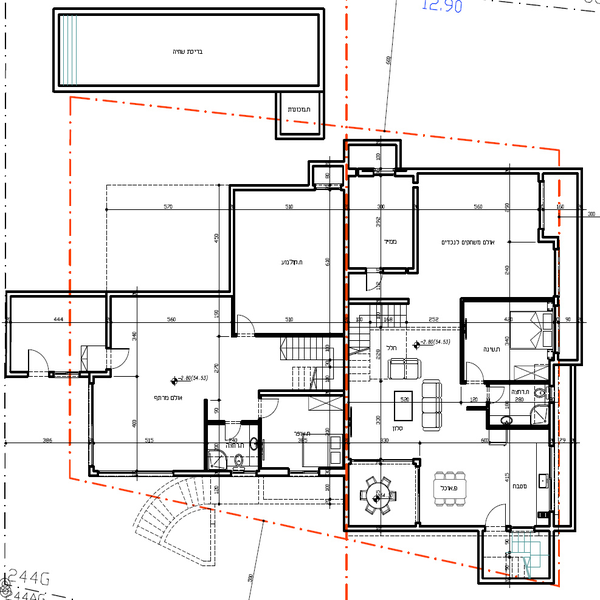door: (483, 502, 511, 535), (485, 383, 513, 411), (26, 349, 48, 378), (257, 393, 284, 416), (363, 270, 389, 292), (235, 312, 255, 339), (464, 362, 484, 389), (110, 346, 133, 369), (224, 419, 247, 438)
room: (343, 429, 560, 531), (204, 334, 352, 480), (107, 290, 211, 480), (231, 181, 349, 336), (455, 296, 557, 429), (456, 294, 565, 390)
wall: (7, 290, 235, 298), (577, 175, 585, 370), (345, 523, 483, 533), (569, 367, 576, 530), (397, 169, 580, 175), (406, 168, 574, 174), (87, 379, 97, 476), (458, 295, 556, 304), (457, 301, 467, 384), (253, 331, 349, 339), (202, 399, 211, 468), (231, 183, 236, 297), (413, 184, 419, 275), (487, 422, 550, 430), (6, 301, 12, 369), (237, 184, 318, 189), (256, 416, 263, 468), (467, 405, 489, 416), (486, 382, 545, 386)
